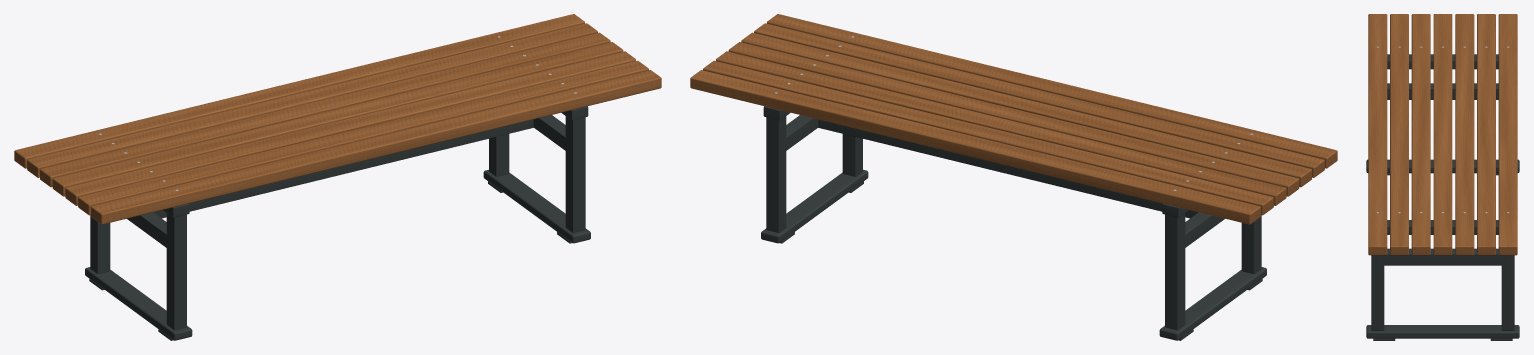
File: nu-bench-straight.glb
3 views of the same model, side by side, from view 1: azimuth 30°, elevation 25°; view 2: azimuth 150°, elevation 25°; view 3: azimuth 270°, elevation 25° (orthographic). The views are drawn at different scales.
Visible parts, largest first — view 1: Seat, Frame; view 2: Seat, Frame; view 3: Seat, Frame.
Part boxes in pixels (x1=…): Seat: x1=14, y1=14, x2=661, y2=224; Frame: x1=85, y1=36, x2=590, y2=340; Seat: x1=690, y1=14, x2=1337, y2=224; Frame: x1=761, y1=36, x2=1266, y2=340; Seat: x1=1368, y1=14, x2=1517, y2=255; Frame: x1=1366, y1=46, x2=1519, y2=340.
Size of the model in its own units: 1.8 by 0.4505 by 0.5.
Materials: 3 (1 with a texture image).
